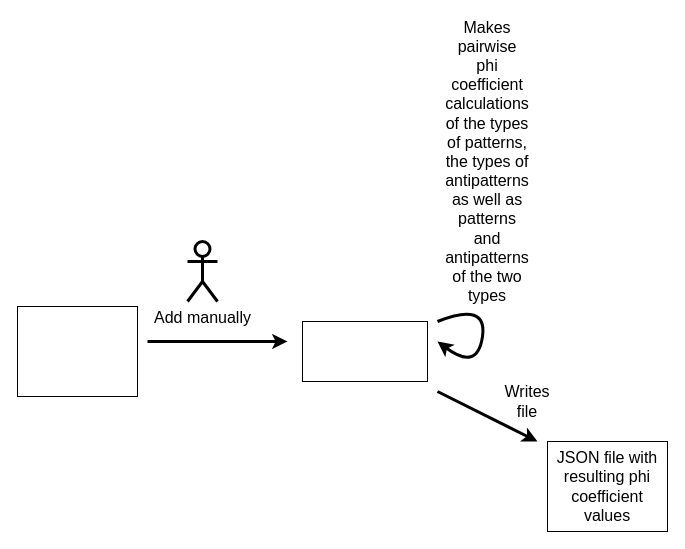
The diagram is 685 pixels wide and 549 high, and some of its shapes have lost their labels. The shapes that lost their labels are listed below. From the top down, each one's box as (x1, y1, x2, y2) in pixels, then its label:
(16, 306, 138, 396): JSON file with data for contingency tables
(302, 320, 428, 382): Python program: table-phico
